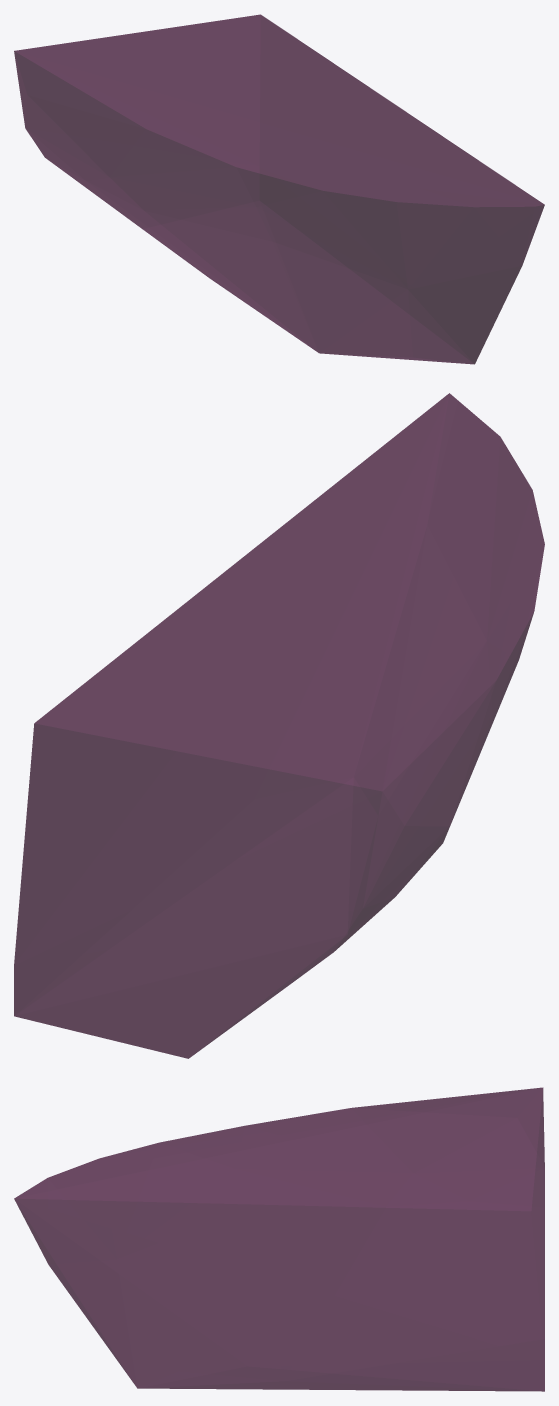
The picture shows the model from 3 angles, top to bottom: view 1: azimuth 30°, elevation 25°; view 2: azimuth 150°, elevation 25°; view 3: azimuth 270°, elevation 25°; orthographic projection. The views are drawn at different scales.
Parts seen in each view (by area): view 1: Shape_IndexedFaceSet.009_Shape_IndexedFaceSet.3347; view 2: Shape_IndexedFaceSet.009_Shape_IndexedFaceSet.3347; view 3: Shape_IndexedFaceSet.009_Shape_IndexedFaceSet.3347.
Part boxes in pixels (left/top/right/bottom): Shape_IndexedFaceSet.009_Shape_IndexedFaceSet.3347: left=14, top=14, right=544, bottom=364; Shape_IndexedFaceSet.009_Shape_IndexedFaceSet.3347: left=14, top=393, right=544, bottom=1058; Shape_IndexedFaceSet.009_Shape_IndexedFaceSet.3347: left=14, top=1087, right=544, bottom=1391.
Bounding box in the file's own units: 0.3149 × 0.2913 × 0.6369.
